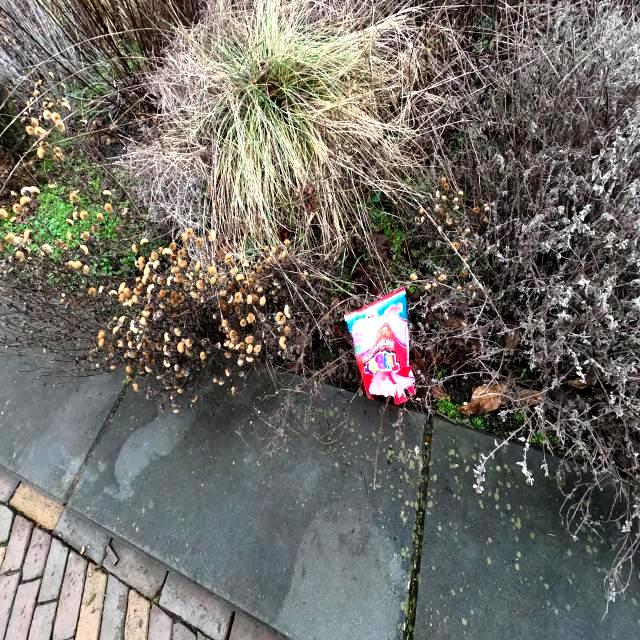Plastic: (342, 284, 416, 406)
